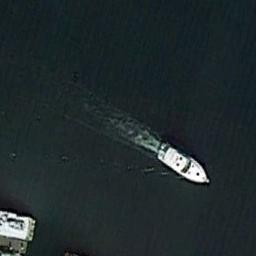boat: (155, 141, 209, 184)
